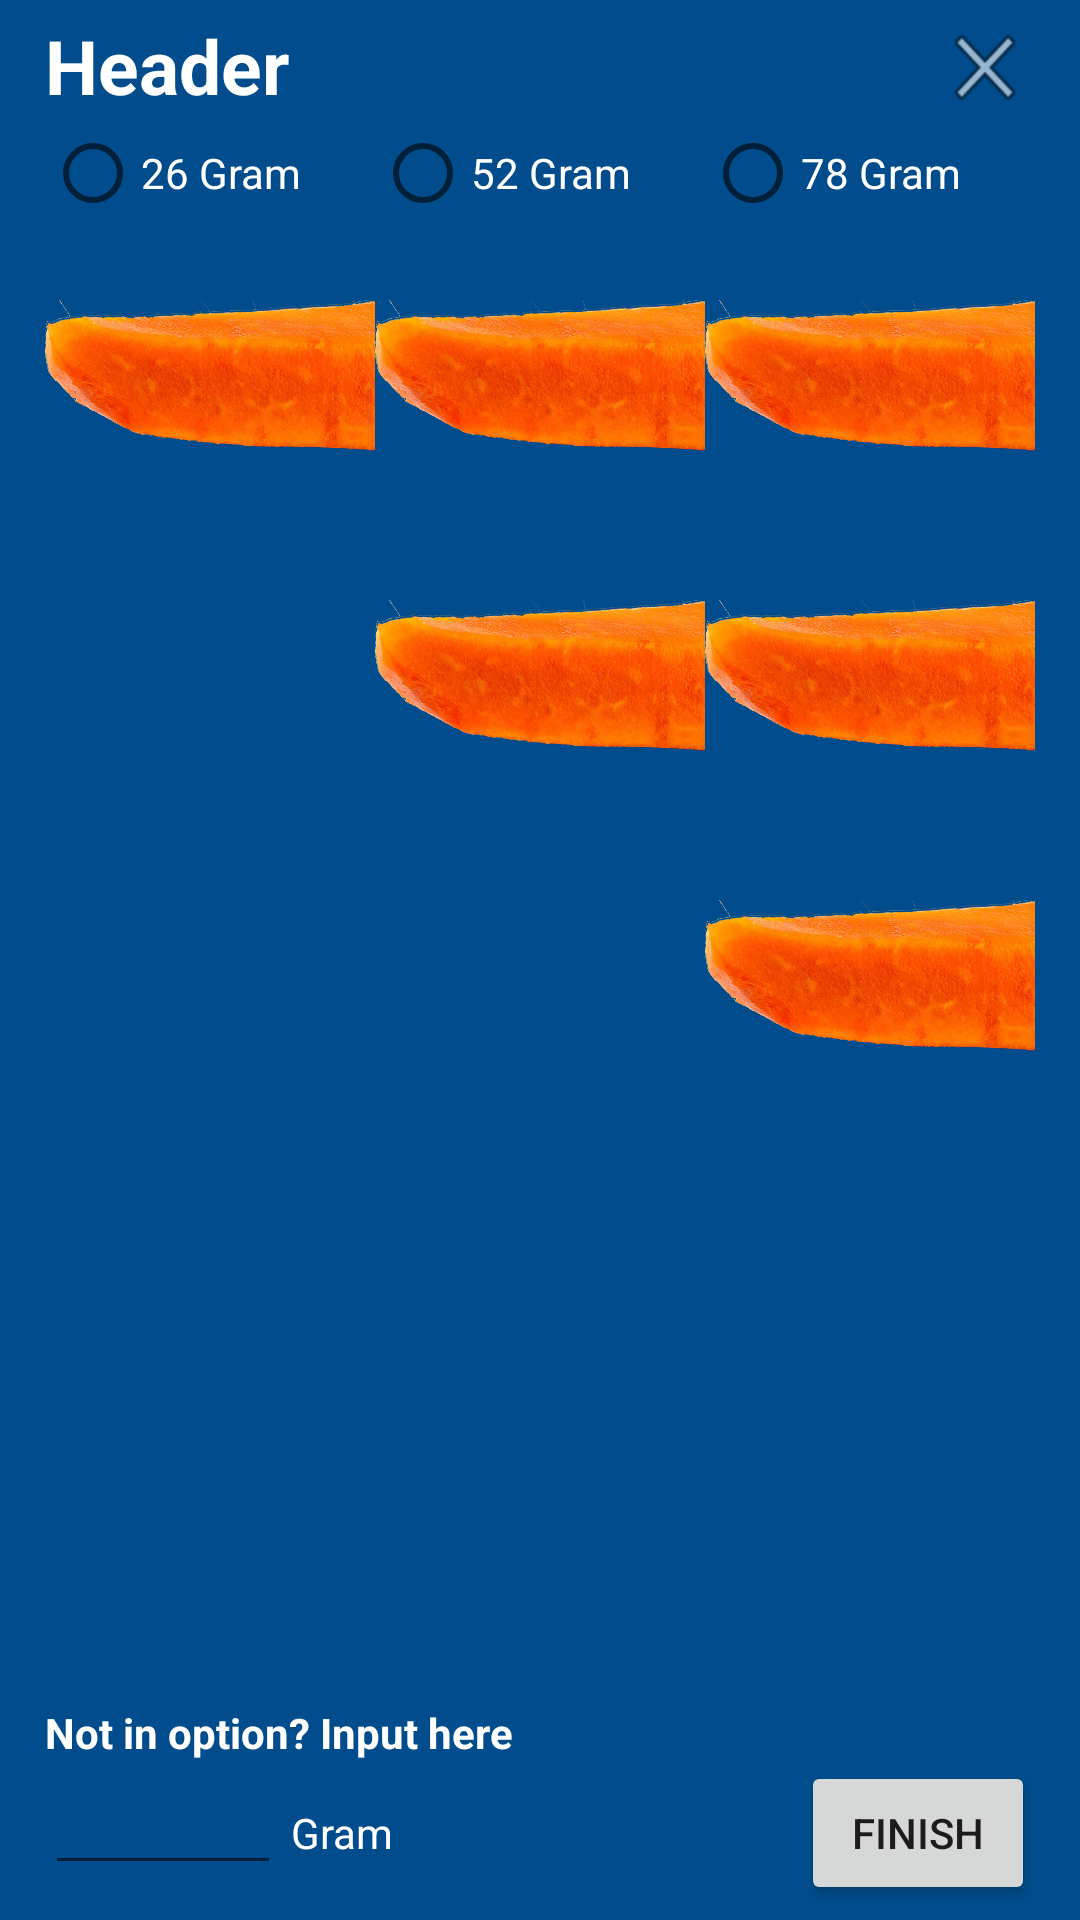

Icon bounding boxes for this 1080w x 1920h phone screenshot, format (x1, y1, x2, y2):
close clear cancel: (955, 35, 1015, 100)
papaya: (45, 300, 375, 452), (375, 300, 705, 452), (705, 300, 1035, 452), (375, 600, 705, 752), (705, 600, 1035, 752), (705, 900, 1035, 1052)
